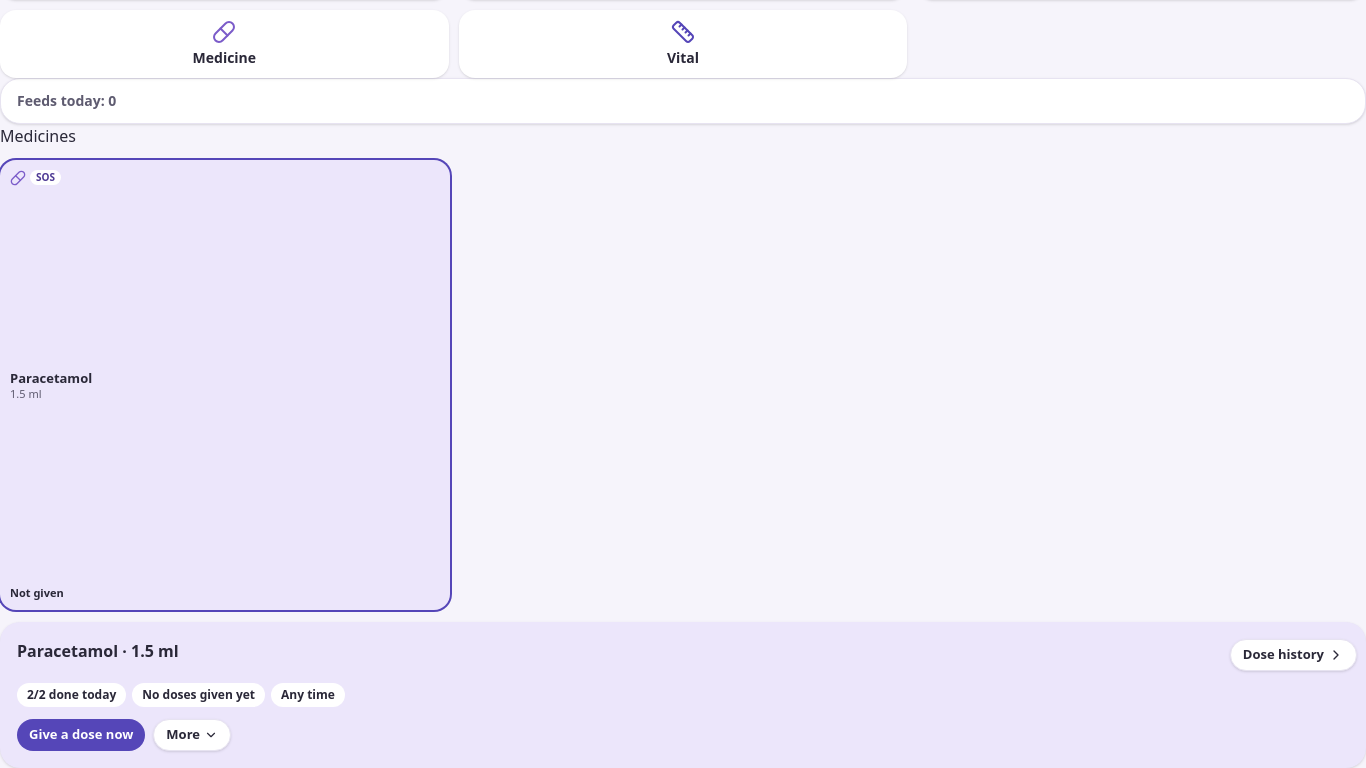
Scenario: cancelling the maximum warning gives nothing
(page scrolled)
Click the button "Give a dose now". click: click(81, 735)
box: [17,719,145,751]
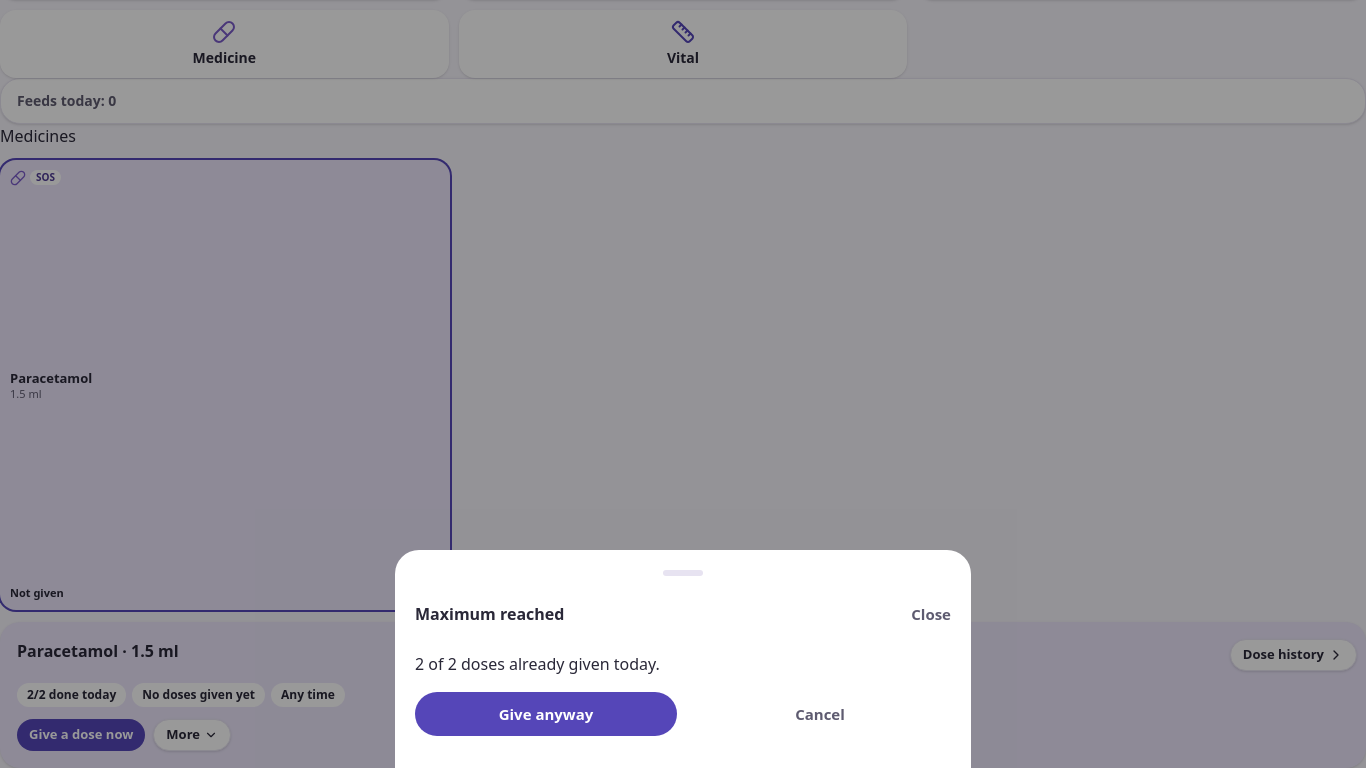
Click the button "Cancel". click: click(820, 714)
box: [689,692,951,736]
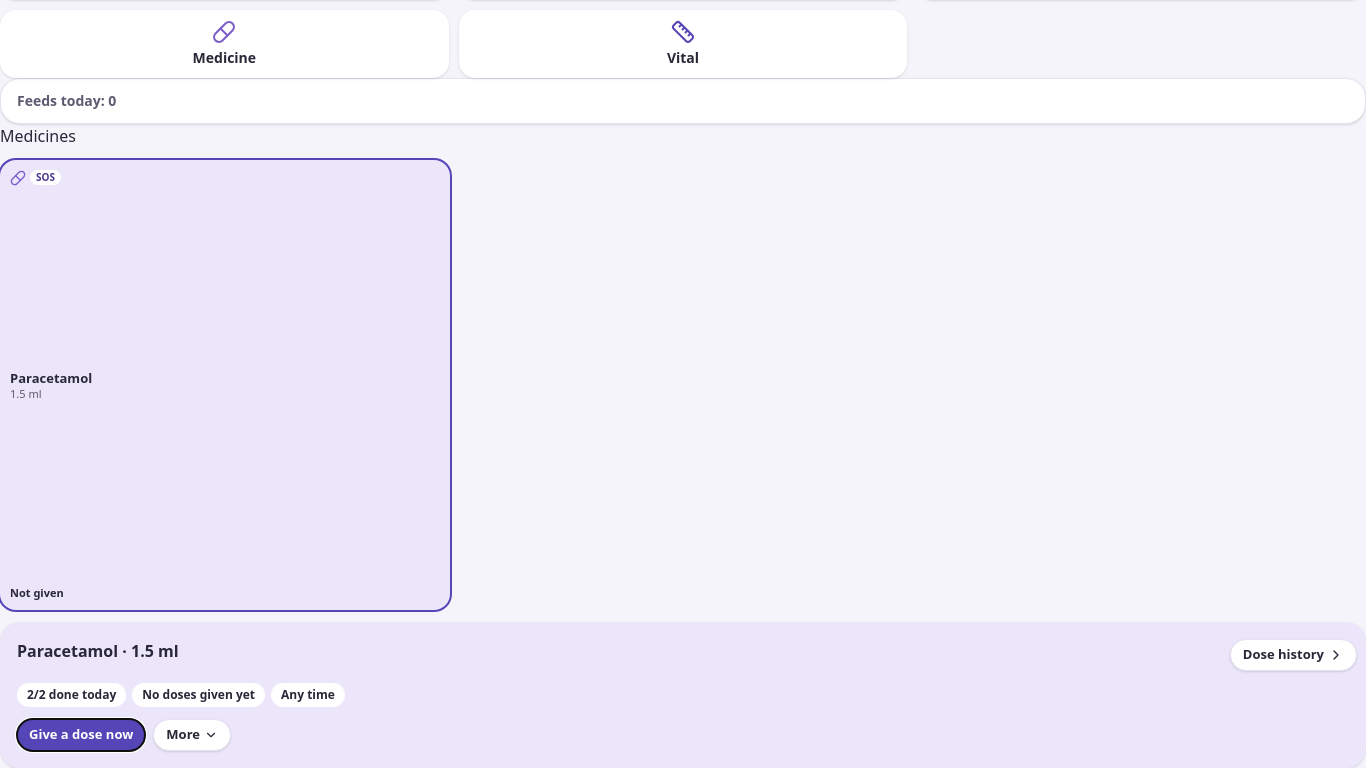
Now the dialog is gone
